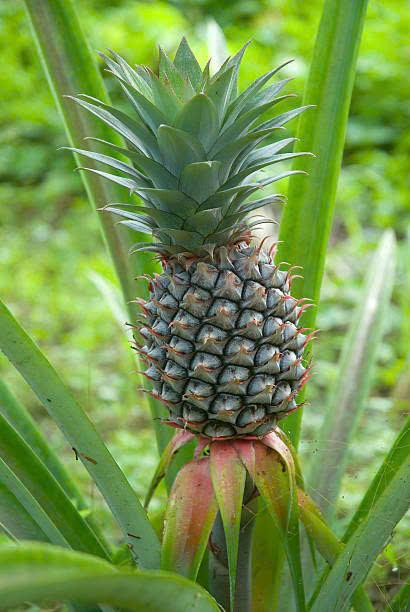pineapple: (140, 59, 321, 448)
